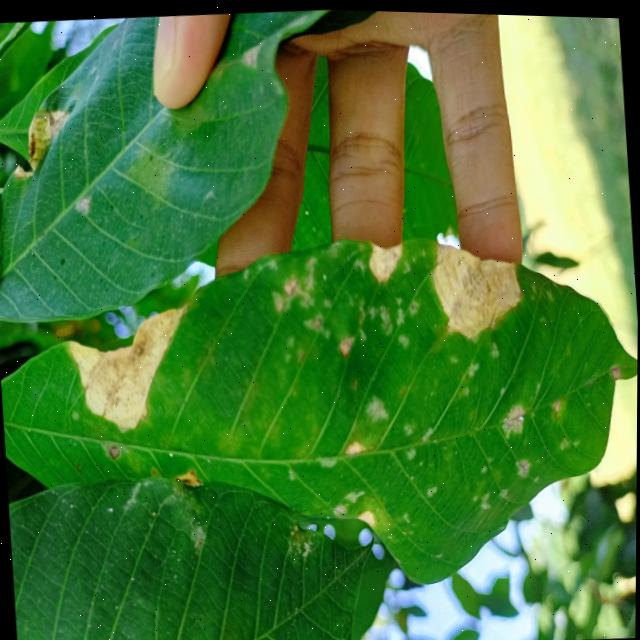Leaf-Blight: (67, 303, 193, 432), (430, 236, 525, 336), (8, 105, 74, 181), (369, 240, 402, 277), (358, 508, 377, 524)
